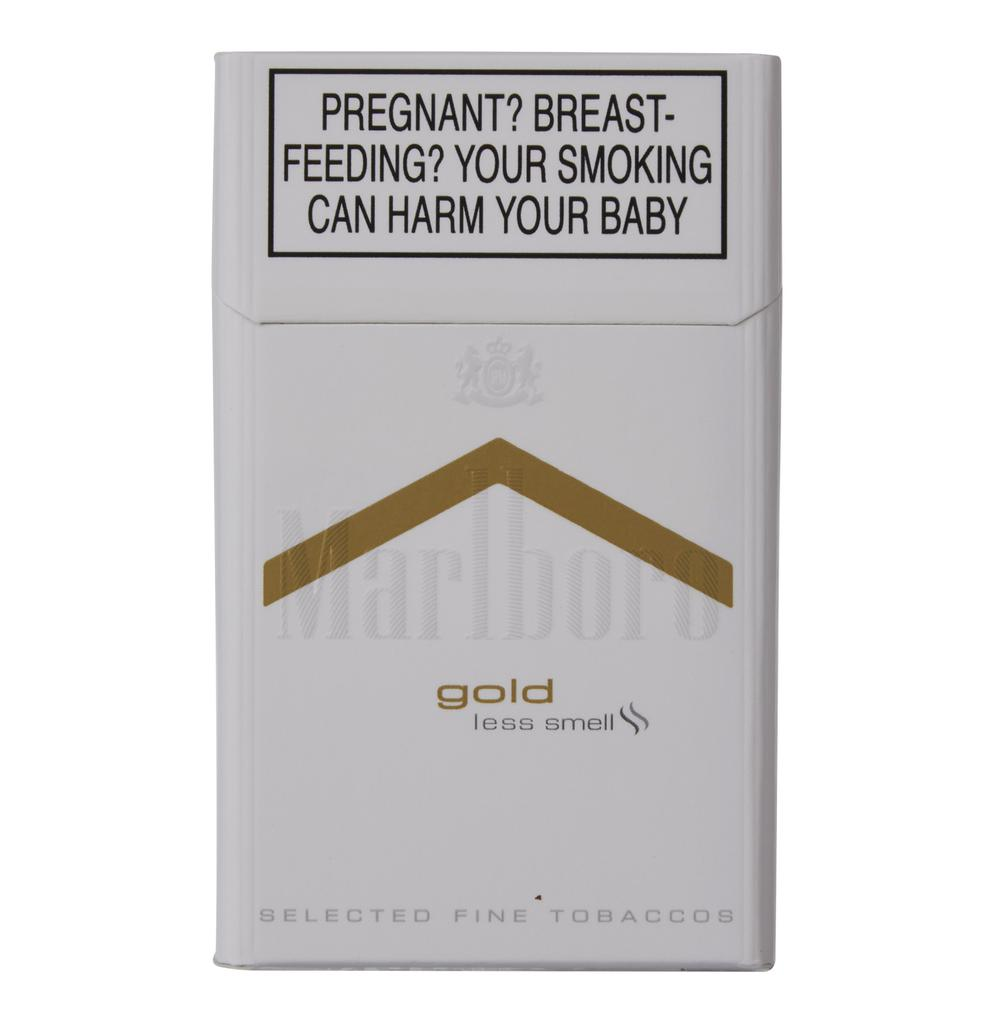marlboro_gold: (225, 56, 768, 970)
